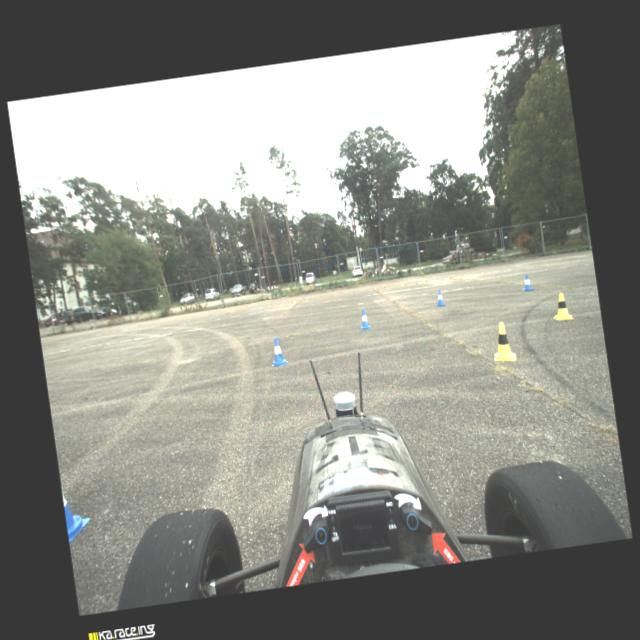blue_cone: (62, 486, 92, 542), (268, 337, 288, 367), (358, 308, 372, 330), (520, 274, 534, 292), (435, 290, 445, 308)
yellow_cone: (490, 321, 517, 364), (550, 291, 574, 322)
